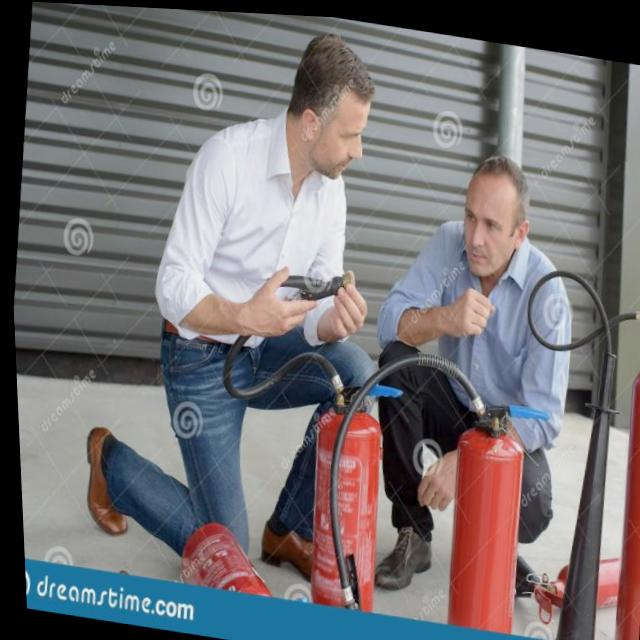FireExtinguisher: (194, 248, 408, 618), (303, 327, 542, 633), (482, 254, 640, 640), (159, 512, 282, 611)
